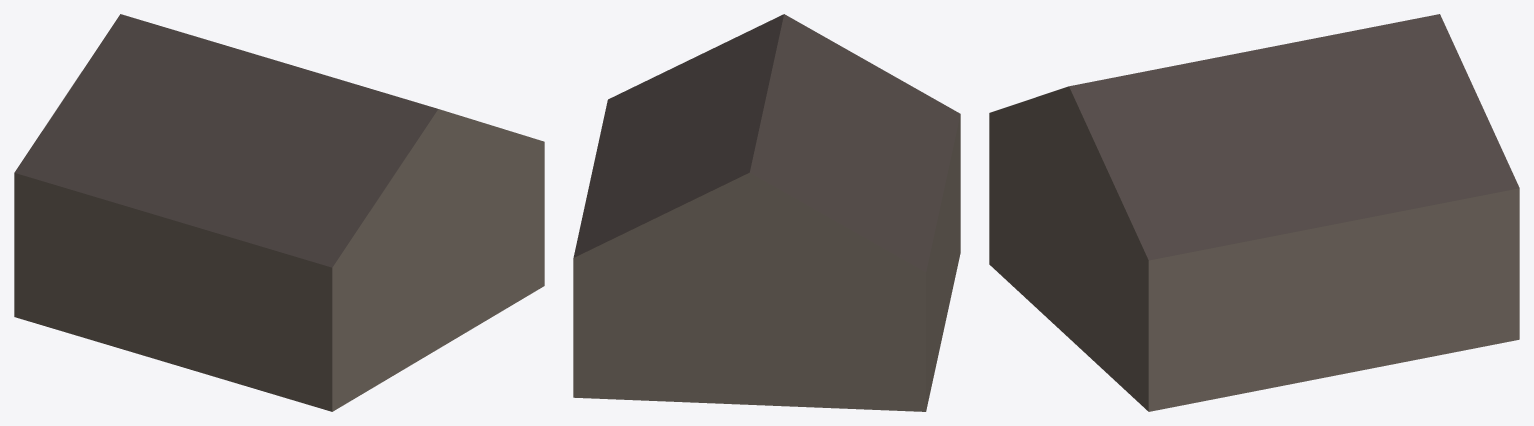
3 renders of one model, left to right at view 1: azimuth 30°, elevation 25°; view 2: azimuth 150°, elevation 25°; view 3: azimuth 270°, elevation 25°, orthographic. The views are drawn at different scales.
Parts seen in each view (by area): view 1: HP-w293412318; view 2: HP-w293412318; view 3: HP-w293412318.
Boxes of the visible parts, x1=… form: HP-w293412318: x1=14, y1=14, x2=544, y2=411; HP-w293412318: x1=573, y1=14, x2=960, y2=411; HP-w293412318: x1=989, y1=14, x2=1519, y2=411.
Size of the model in its own units: 18.69 by 9.98 by 19.06.
